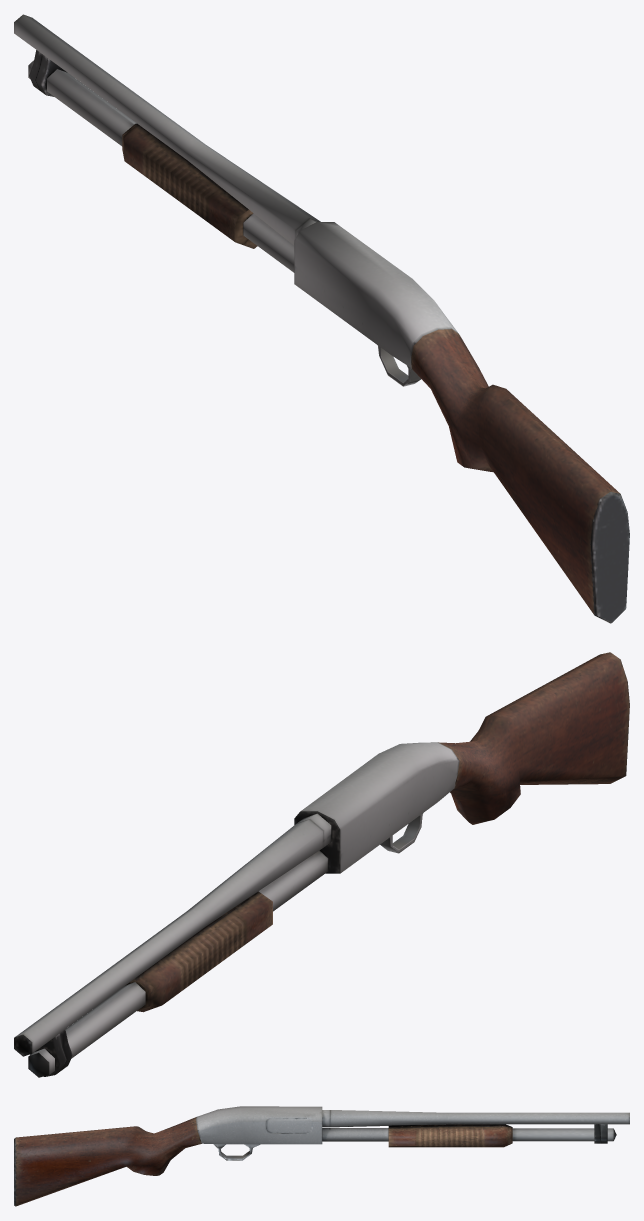
The model's file is Remington_Wood.fbx.
The picture shows the model from 3 angles, top to bottom: view 1: azimuth 30°, elevation 25°; view 2: azimuth 150°, elevation 25°; view 3: azimuth 270°, elevation 25°; orthographic projection. The views are drawn at different scales.
Parts seen in each view (by area): view 1: Remington_Wood; view 2: Remington_Wood; view 3: Remington_Wood.
Part boxes in pixels (box(x1,y1,x2,y2)): Remington_Wood: box(14, 14, 629, 623); Remington_Wood: box(14, 652, 629, 1077); Remington_Wood: box(14, 1106, 629, 1206).
Size of the model in its own units: 0.0274 by 0.6064 by 0.1064.
